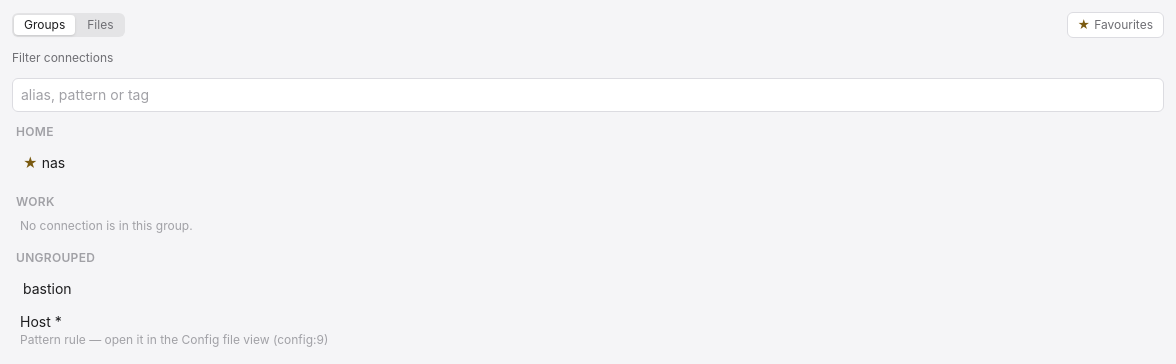
Test: a group that holds nothing › does not do the same for a file, which is not a place anything can be put
Step 1. Click the button "Files" → (100, 25), box [77,15,124,35]
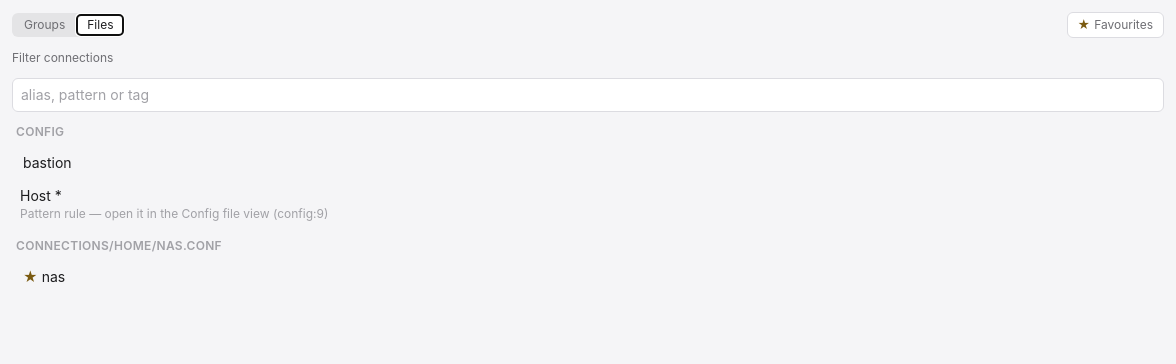
Expected: the text "No connection is in this group." is gone
